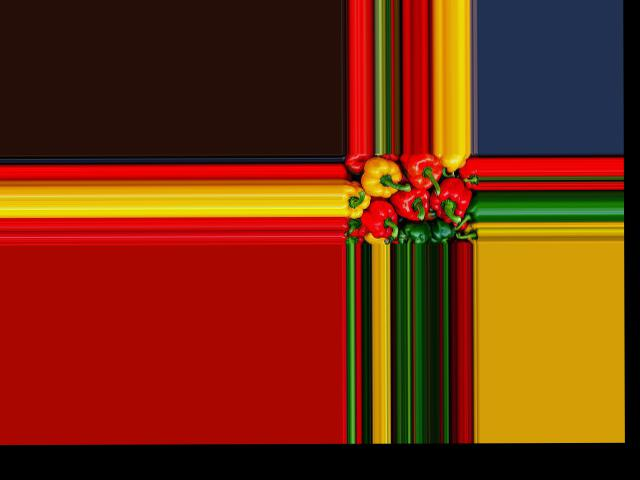bell_pepper: (442, 152, 465, 170)
